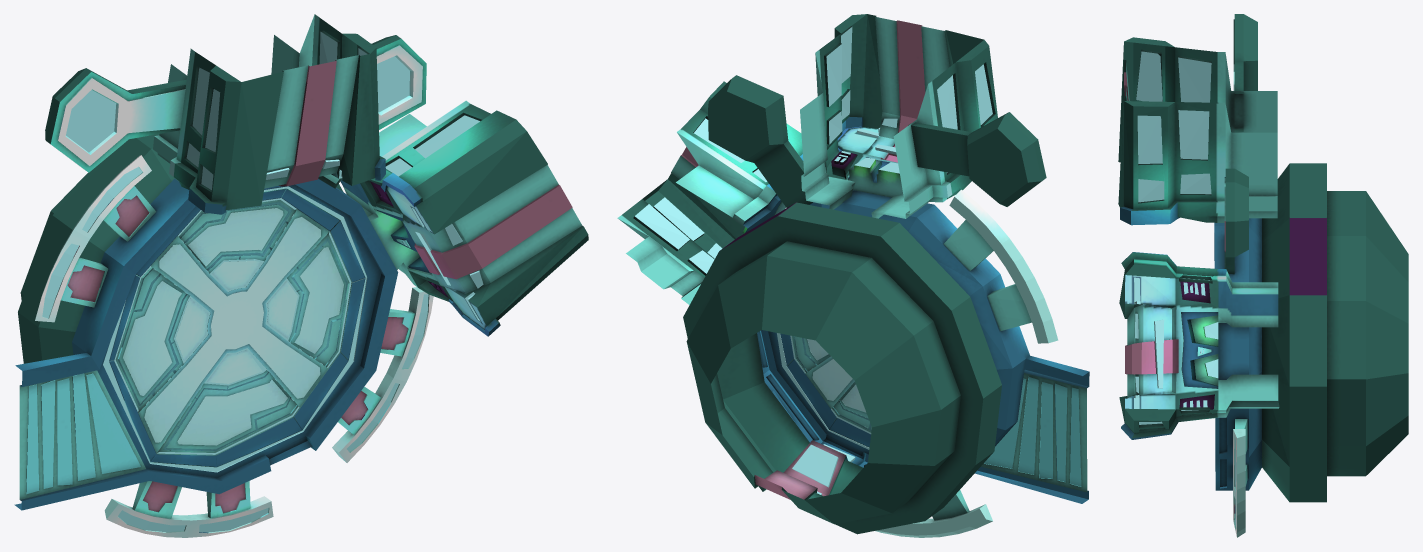
Rendered from ThugShip_Tile_Bay_05.fbx.
3 renders of one model, left to right at view 1: azimuth 30°, elevation 25°; view 2: azimuth 150°, elevation 25°; view 3: azimuth 270°, elevation 25°, orthographic. The views are drawn at different scales.
Visible parts, largest first — view 1: ThugShip_Tile_Bay_05, ThugShip_Tile_Bay_05_Glow; view 2: ThugShip_Tile_Bay_05, ThugShip_Tile_Bay_05_Glow; view 3: ThugShip_Tile_Bay_05, ThugShip_Tile_Bay_05_Glow.
Part boxes in pixels (x1,y1,x2,y2): ThugShip_Tile_Bay_05: (14,14,588,537); ThugShip_Tile_Bay_05_Glow: (42,31,483,532); ThugShip_Tile_Bay_05: (617,14,1089,537); ThugShip_Tile_Bay_05_Glow: (635,27,992,495); ThugShip_Tile_Bay_05: (1118,14,1408,537); ThugShip_Tile_Bay_05_Glow: (1134,51,1236,526).
Bounding box in the file's own units: 188 × 176 × 101.
Materials: 2 (1 with a texture image).
